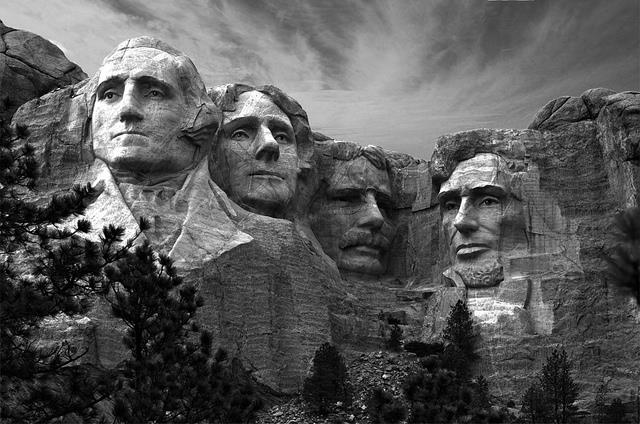Mount_Rushmore: (90, 41, 535, 289)
